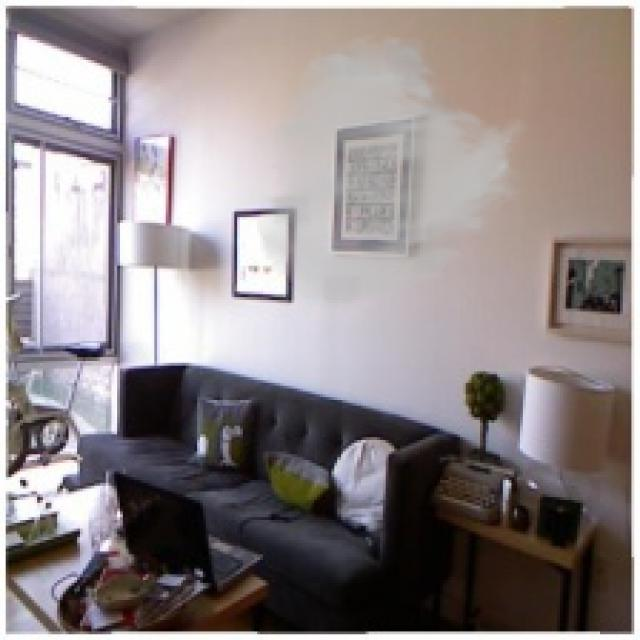smoke: (254, 31, 529, 312)
